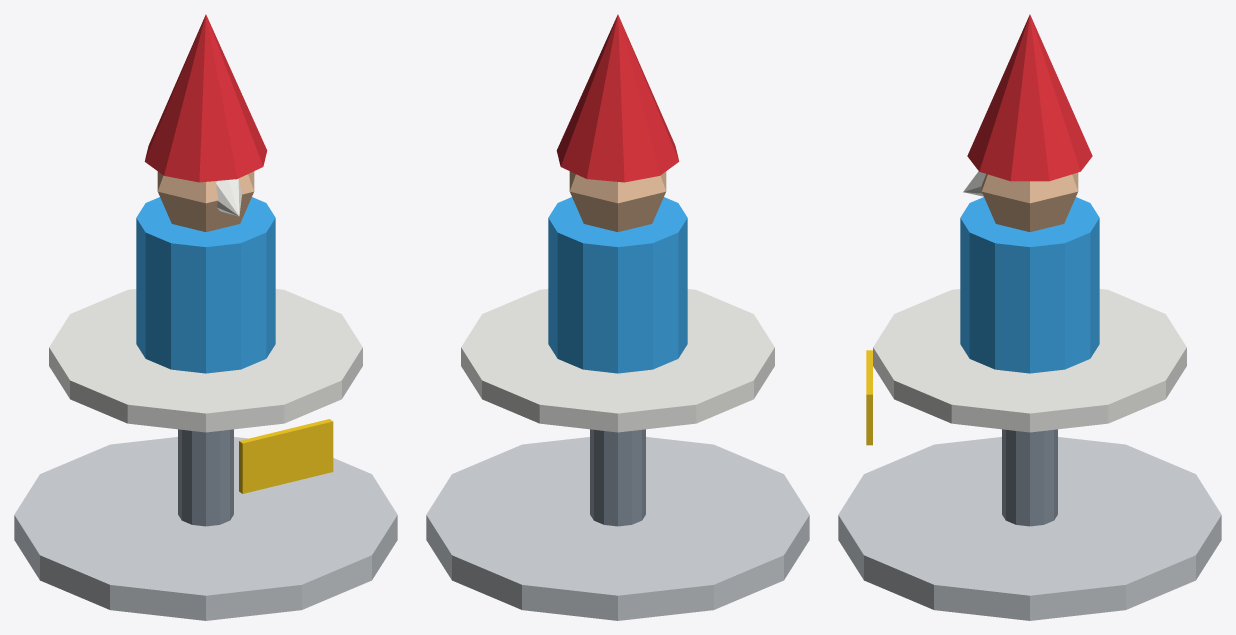
File: item-garden_gnome.glb
3 renders of one model, left to right at view 1: azimuth 30°, elevation 25°; view 2: azimuth 150°, elevation 25°; view 3: azimuth 270°, elevation 25°, orthographic.
Parts seen in each view (by area): view 1: item-garden_gnome; view 2: item-garden_gnome; view 3: item-garden_gnome.
Part boxes in pixels (left/top/right/bottom): item-garden_gnome: left=14, top=14, right=397, bottom=620; item-garden_gnome: left=426, top=14, right=809, bottom=620; item-garden_gnome: left=838, top=14, right=1221, bottom=620.
Size of the model in its own units: 1.1 by 1.66 by 1.1.
